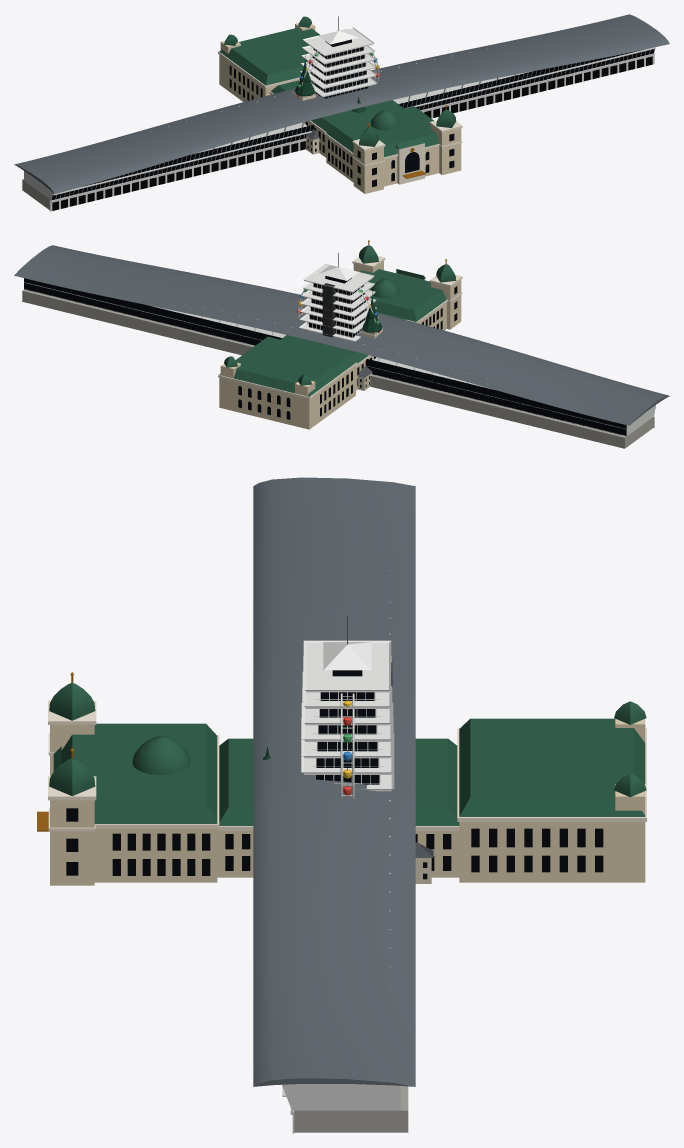
The model's file is landmarks.glb.
The picture shows the model from 3 angles, top to bottom: view 1: azimuth 30°, elevation 25°; view 2: azimuth 150°, elevation 25°; view 3: azimuth 270°, elevation 25°; orthographic projection. The views are drawn at different scales.
Parts seen in each view (by area): view 1: SilverstoneWing, Casino, IndyPagoda, WilamowiceChurch, PszczynaCastle; view 2: SilverstoneWing, Casino, IndyPagoda, WilamowiceChurch; view 3: SilverstoneWing, Casino, IndyPagoda, FerrisWheel.
Part boxes in pixels (x1=…): SilverstoneWing: x1=14, y1=14, x2=669, y2=211; Casino: x1=218, y1=16, x2=462, y2=193; IndyPagoda: x1=300, y1=16, x2=377, y2=98; WilamowiceChurch: x1=294, y1=54, x2=315, y2=100; PszczynaCastle: x1=305, y1=97, x2=365, y2=154; SilverstoneWing: x1=14, y1=245, x2=669, y2=448; Casino: x1=218, y1=240, x2=462, y2=429; IndyPagoda: x1=299, y1=253, x2=376, y2=341; WilamowiceChurch: x1=361, y1=291, x2=382, y2=338; SilverstoneWing: x1=253, y1=477, x2=415, y2=1133; Casino: x1=37, y1=672, x2=646, y2=885; IndyPagoda: x1=301, y1=615, x2=394, y2=791; FerrisWheel: x1=340, y1=693, x2=354, y2=798.
Bounding box in the file's own units: 382 × 68.37 × 164.
